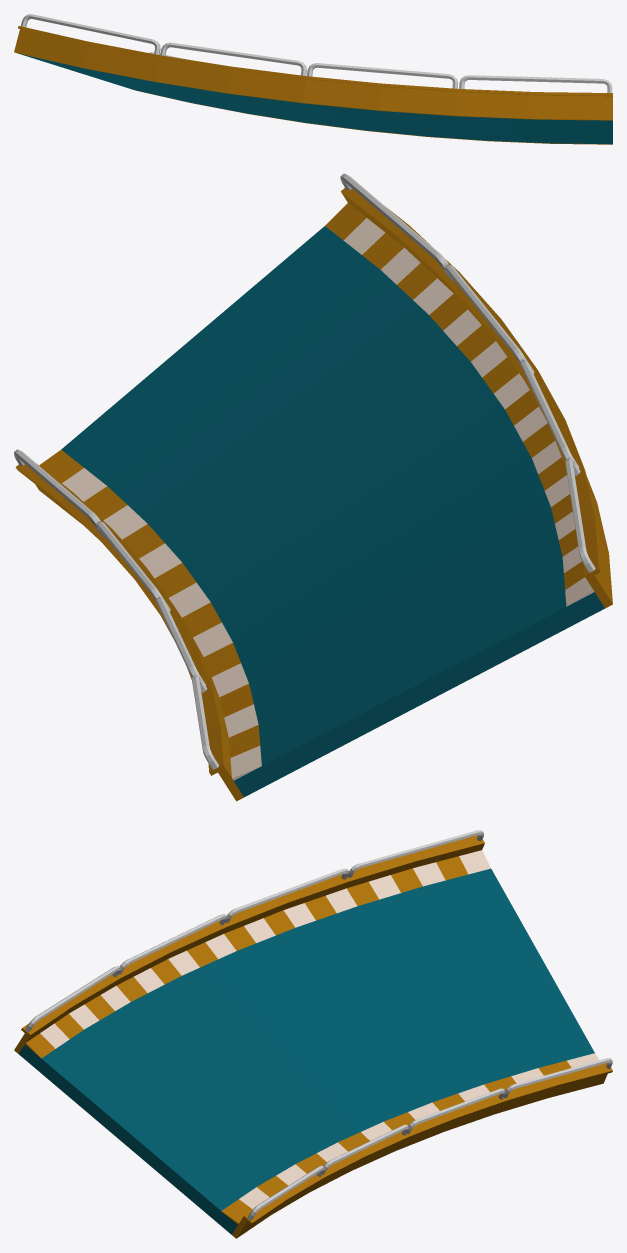
The model's file is bankedLeft-30-30_m.FBX.
3 renders of one model, top to bottom at view 1: azimuth 30°, elevation 25°; view 2: azimuth 150°, elevation 25°; view 3: azimuth 270°, elevation 25°, orthographic. The views are drawn at different scales.
Visible parts, largest first — view 1: wall_r, bankedLeft-30-30_m, wall_l; view 2: bankedLeft-30-30_m, curbs_r, curbs_l, wall_r, wall_l; view 3: bankedLeft-30-30_m, curbs_r, wall_r, wall_l, curbs_l.
Part boxes in pixels (<box>): wall_r: <box>14,14,612,120</box>; bankedLeft-30-30_m: <box>19,53,612,144</box>; wall_l: <box>135,52,612,144</box>; bankedLeft-30-30_m: <box>61,226,604,797</box>; curbs_r: <box>325,203,594,606</box>; curbs_l: <box>39,450,261,780</box>; wall_r: <box>340,173,612,608</box>; wall_l: <box>14,449,243,801</box>; bankedLeft-30-30_m: <box>19,868,594,1234</box>; curbs_r: <box>25,850,490,1058</box>; wall_r: <box>14,830,484,1053</box>; wall_l: <box>232,1058,612,1238</box>; curbs_l: <box>221,1053,598,1224</box>.
Size of what is drawn, in the model's own units: 404 by 126 by 404.
